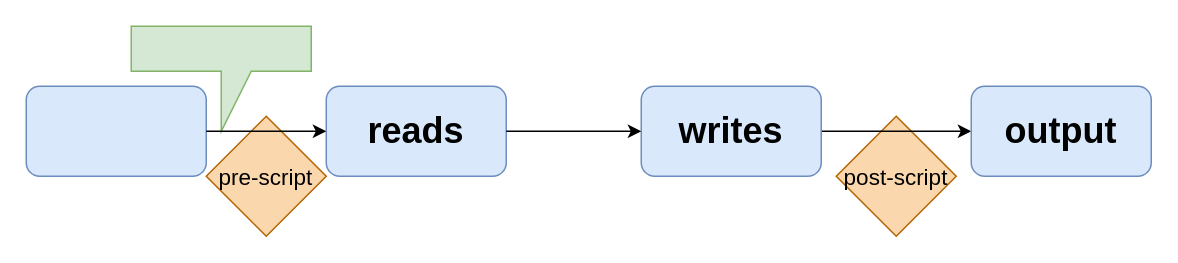
This 1178x263 diagram has some shape labels left out. Here are the shapes that lost their labels. From the top down, the centre of each, then its label:
the point at 220,78: client setup
the point at 115,130: inputs
